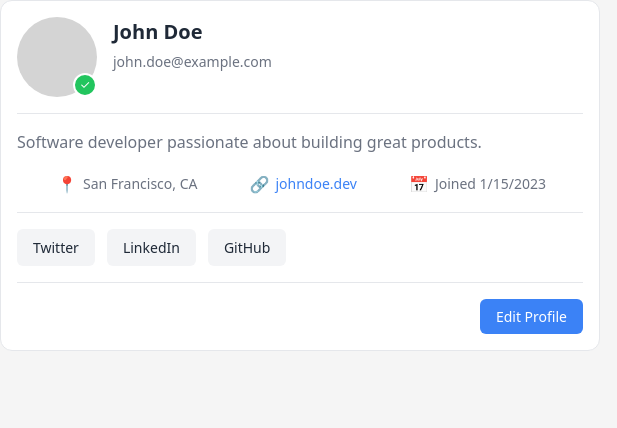
Test: UserProfile › Editing › enters edit mode when edit button is clicked
Click the button with test id "edit-button". click: click(531, 316)
box: [480, 299, 583, 334]
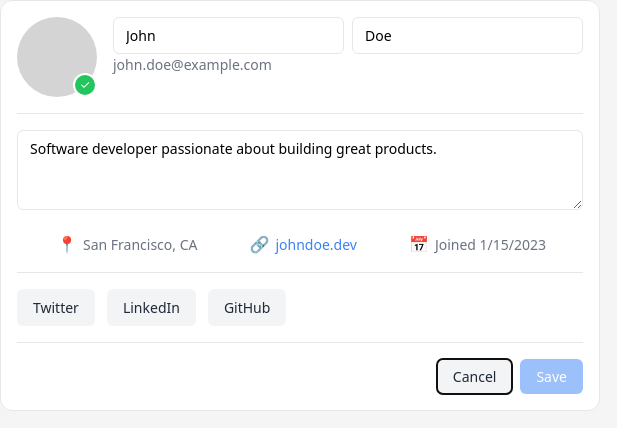
Result: the field with test id "edit-first-name" is shown at [113, 17, 344, 54]
Result: the field with test id "edit-last-name" is shown at [352, 17, 583, 54]
Result: the text box with test id "edit-bio" is shown at [17, 130, 583, 210]
